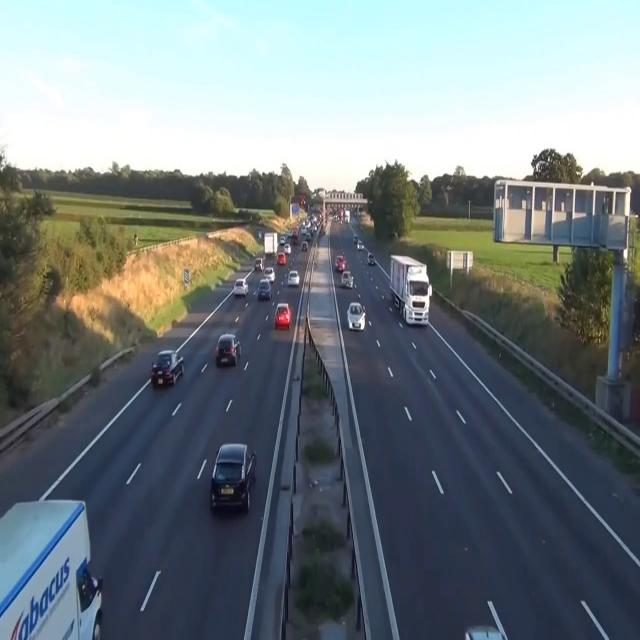belum terisi: (0, 477, 107, 640), (204, 434, 258, 523), (384, 250, 434, 340), (147, 342, 191, 396), (214, 326, 243, 372), (344, 293, 369, 338), (274, 295, 292, 339), (230, 270, 248, 300), (254, 277, 272, 305)
